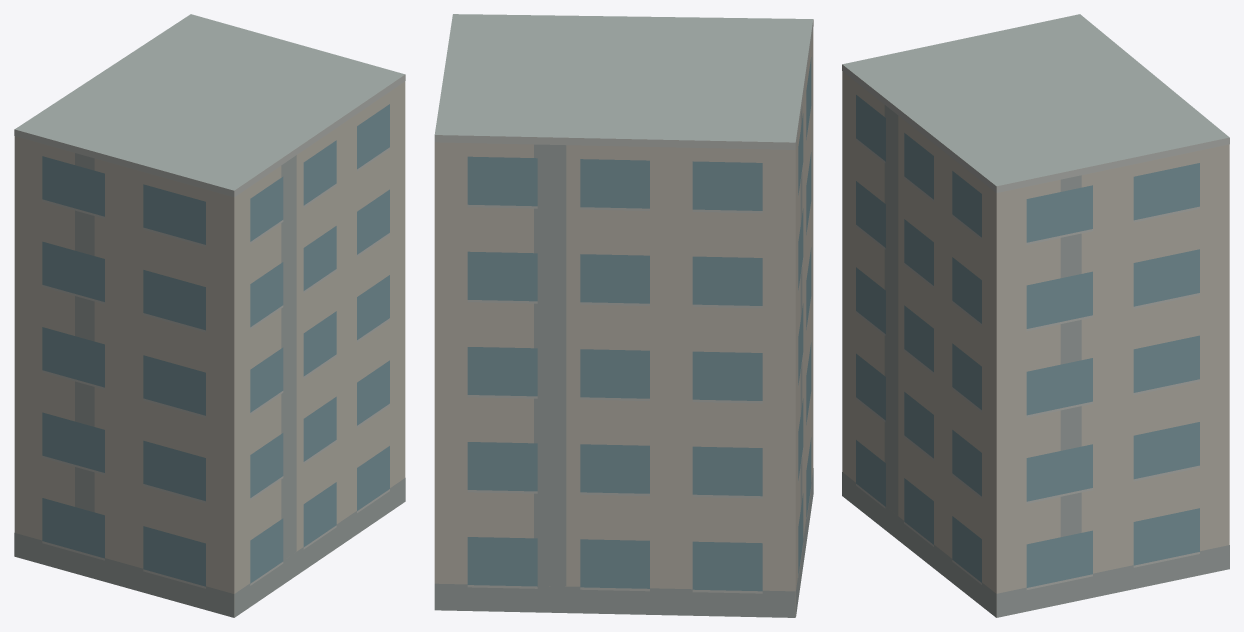
Rendered from survey-upis-32976430.glb.
The picture shows the model from 3 angles, left to right: view 1: azimuth 30°, elevation 25°; view 2: azimuth 150°, elevation 25°; view 3: azimuth 270°, elevation 25°; orthographic projection. The views are drawn at different scales.
Parts seen in each view (by area): view 1: survey-upis-32976430.tmp; view 2: survey-upis-32976430.tmp; view 3: survey-upis-32976430.tmp.
Part boxes in pixels (<box>): survey-upis-32976430.tmp: <box>14,14,405,617</box>; survey-upis-32976430.tmp: <box>434,14,813,617</box>; survey-upis-32976430.tmp: <box>842,14,1229,617</box>.
Size of the model in its own units: 13.37 by 15.6 by 12.71.
